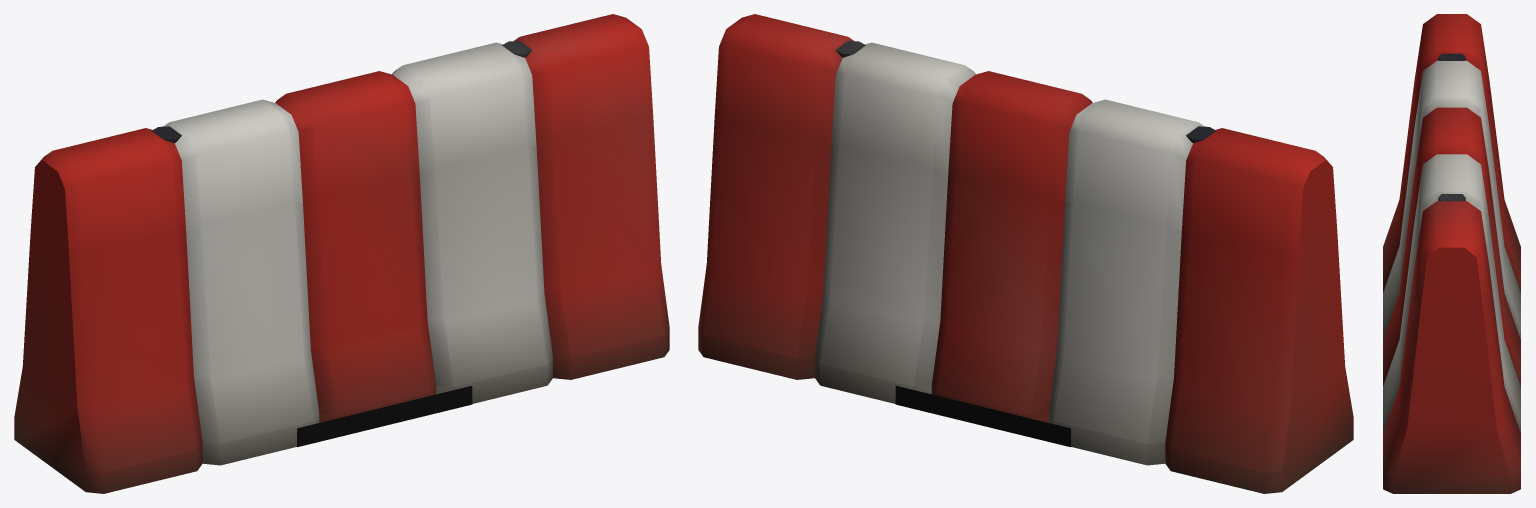
Rendered from barrier_plastic.glb.
3 renders of one model, left to right at view 1: azimuth 30°, elevation 25°; view 2: azimuth 150°, elevation 25°; view 3: azimuth 270°, elevation 25°, orthographic. The views are drawn at different scales.
Parts seen in each view (by area): view 1: BarrierPlastic; view 2: BarrierPlastic; view 3: BarrierPlastic.
Boxes of the visible parts, x1,y1,x2,y2 form: BarrierPlastic: [14, 14, 669, 493]; BarrierPlastic: [698, 14, 1353, 493]; BarrierPlastic: [1383, 14, 1520, 493].
Size of the model in its own units: 2 by 1 by 0.506.
